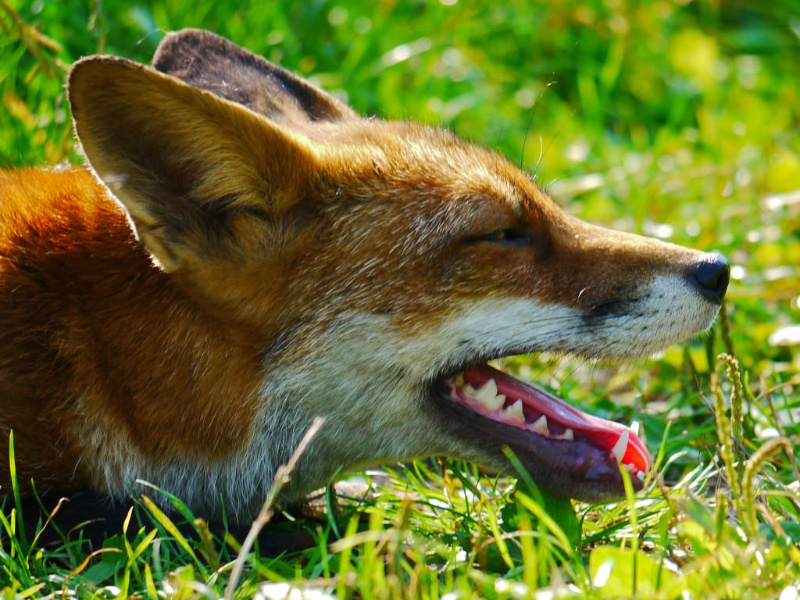fox: (1, 28, 743, 525)
